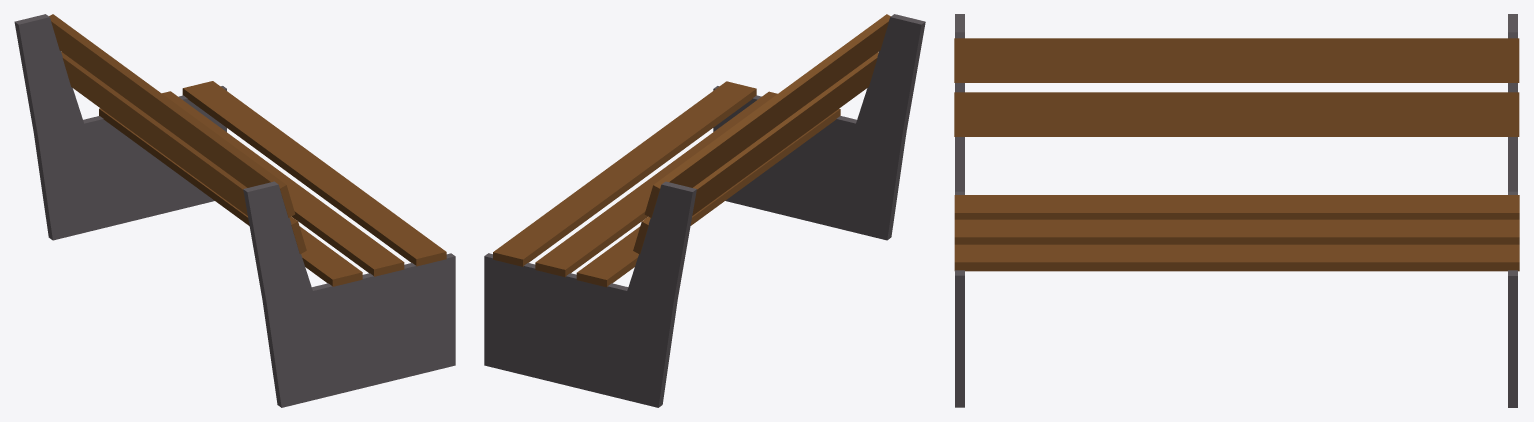
Rendered from Bench.fbx.
The picture shows the model from 3 angles, left to right: view 1: azimuth 30°, elevation 25°; view 2: azimuth 150°, elevation 25°; view 3: azimuth 270°, elevation 25°; orthographic projection. The views are drawn at different scales.
Parts seen in each view (by area): view 1: Cube, Cube.001, Plane.004, Plane.001, Plane.002, Plane.003, Plane; view 2: Cube.001, Cube, Plane.004, Plane.001, Plane.002, Plane.003, Plane; view 3: Plane.001, Plane.002, Plane.004, Plane.003, Plane, Cube, Cube.001.
Boxes of the visible parts, bbox=[...] form: Cube: bbox=[243, 181, 455, 407]; Cube.001: bbox=[14, 14, 226, 240]; Plane.004: bbox=[182, 81, 446, 266]; Plane.001: bbox=[49, 14, 295, 217]; Plane.002: bbox=[61, 52, 306, 254]; Plane.003: bbox=[162, 91, 404, 276]; Plane: bbox=[99, 108, 362, 286]; Cube.001: bbox=[484, 181, 696, 407]; Cube: bbox=[713, 14, 925, 240]; Plane.004: bbox=[493, 81, 756, 266]; Plane.001: bbox=[644, 14, 890, 217]; Plane.002: bbox=[633, 52, 878, 254]; Plane.003: bbox=[535, 91, 777, 277]; Plane: bbox=[576, 108, 840, 287]; Plane.001: bbox=[954, 38, 1519, 82]; Plane.002: bbox=[954, 92, 1519, 136]; Plane.004: bbox=[954, 244, 1519, 271]; Plane.003: bbox=[954, 219, 1519, 244]; Plane: bbox=[954, 195, 1519, 219]; Cube: bbox=[955, 14, 964, 407]; Cube.001: bbox=[1508, 14, 1517, 407].
Size of the model in its own units: 213 by 218 by 413.
